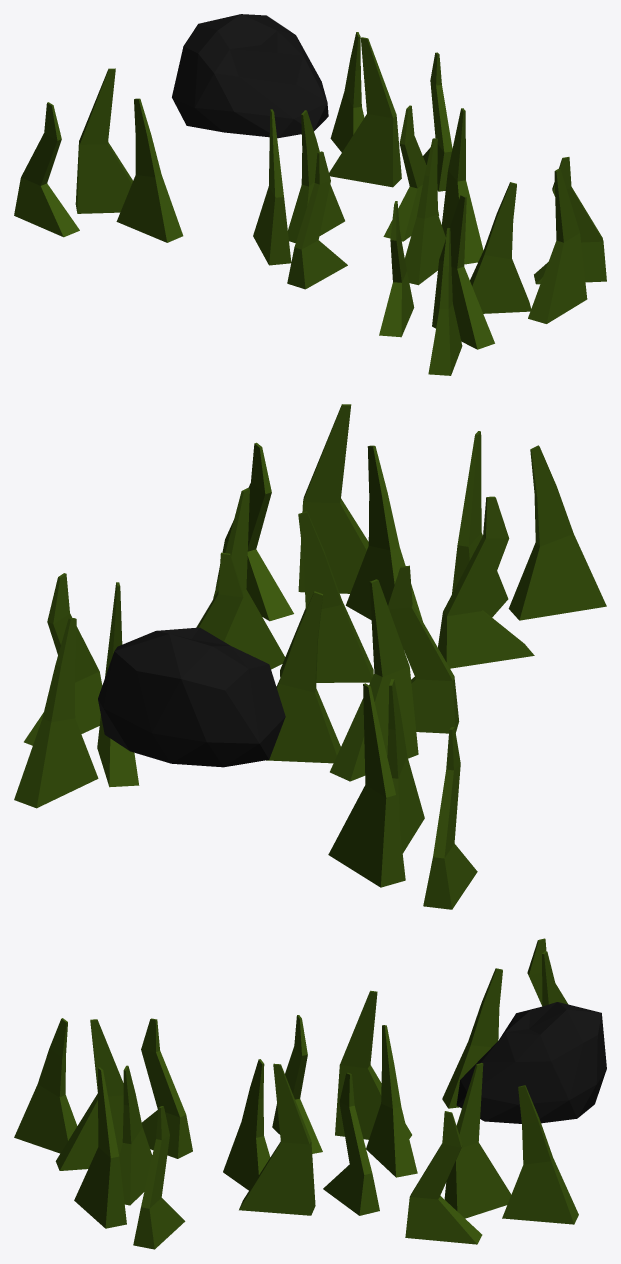
File: moitaPedraobj.obj
3 views of the same model, one above another, from view 1: azimuth 30°, elevation 25°; view 2: azimuth 150°, elevation 25°; view 3: azimuth 270°, elevation 25° (orthographic). The views are drawn at different scales.
Visible parts, largest first — view 1: caillou2_Icosphere.001, Cube.002, Cube.009_Cube.010, Cube.003, Cube.000, Cube.001, Cube.004; view 2: caillou2_Icosphere.001, Cube.000, Cube.001, Cube.002, Cube.009_Cube.010, Cube.003, Cube.004; view 3: Cube.003, caillou2_Icosphere.001, Cube.004, Cube.001, Cube.009_Cube.010, Cube.000, Cube.002.
Part boxes in pixels (left/top/right/bottom): caillou2_Icosphere.001: left=172, top=14, right=328, bottom=138; Cube.002: left=14, top=68, right=183, bottom=242; Cube.009_Cube.010: left=470, top=157, right=606, bottom=323; Cube.003: left=329, top=32, right=452, bottom=191; Cube.000: left=253, top=109, right=347, bottom=289; Cube.001: left=379, top=194, right=494, bottom=375; Cube.004: left=383, top=105, right=483, bottom=285; caillou2_Icosphere.001: left=98, top=627, right=285, bottom=767; Cube.000: left=266, top=565, right=459, bottom=781; Cube.001: left=438, top=431, right=606, bottom=668; Cube.002: left=328, top=679, right=477, bottom=909; Cube.009_Cube.010: left=215, top=404, right=422, bottom=621; Cube.003: left=14, top=573, right=139, bottom=808; Cube.004: left=196, top=488, right=373, bottom=682; Cube.003: left=405, top=1063, right=578, bottom=1244; caillou2_Icosphere.001: left=456, top=1002, right=606, bottom=1123; Cube.004: left=223, top=1059, right=379, bottom=1215; Cube.001: left=14, top=1018, right=192, bottom=1170; Cube.009_Cube.010: left=74, top=1065, right=185, bottom=1249; Cube.000: left=272, top=990, right=417, bottom=1177; Cube.002: left=442, top=938, right=568, bottom=1108.
Size of the model in its own units: 0.9174 by 0.3455 by 1.18.
